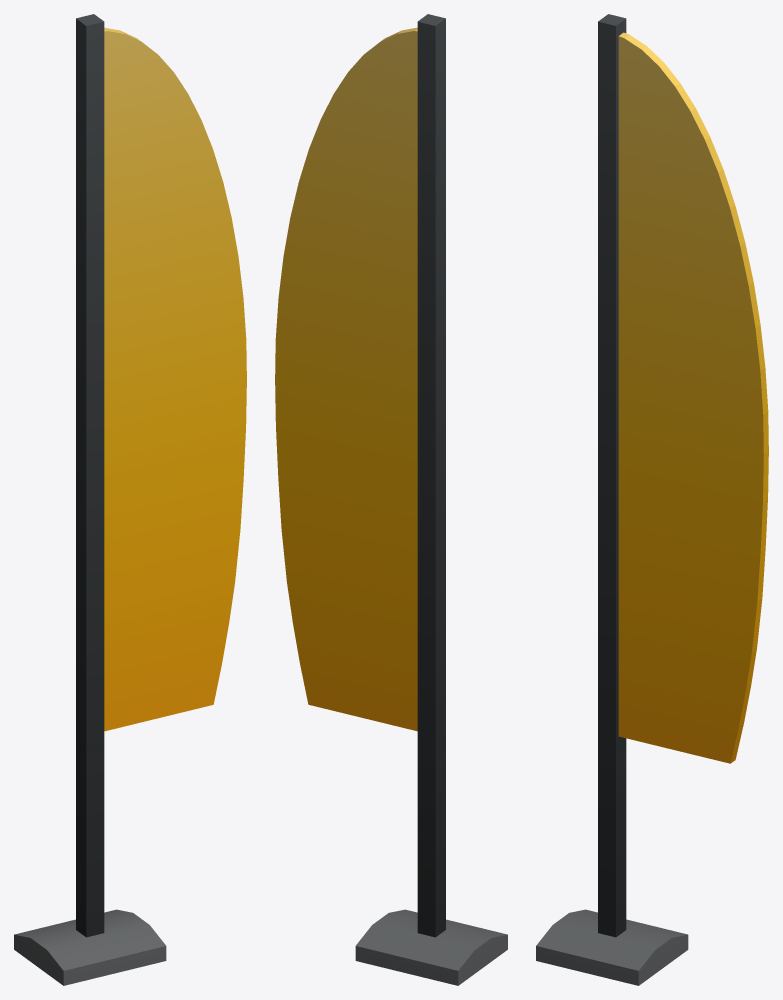
Rendered from Flag_02.fbx.
3 renders of one model, left to right at view 1: azimuth 30°, elevation 25°; view 2: azimuth 150°, elevation 25°; view 3: azimuth 330°, elevation 25°, orthographic.
Parts seen in each view (by area): view 1: Flag_02; view 2: Flag_02; view 3: Flag_02.
Boxes of the visible parts, bbox=[...] form: Flag_02: bbox=[14, 14, 246, 985]; Flag_02: bbox=[275, 14, 507, 985]; Flag_02: bbox=[536, 14, 768, 985].
Size of the model in its own units: 91.76 by 38.38 by 399.
